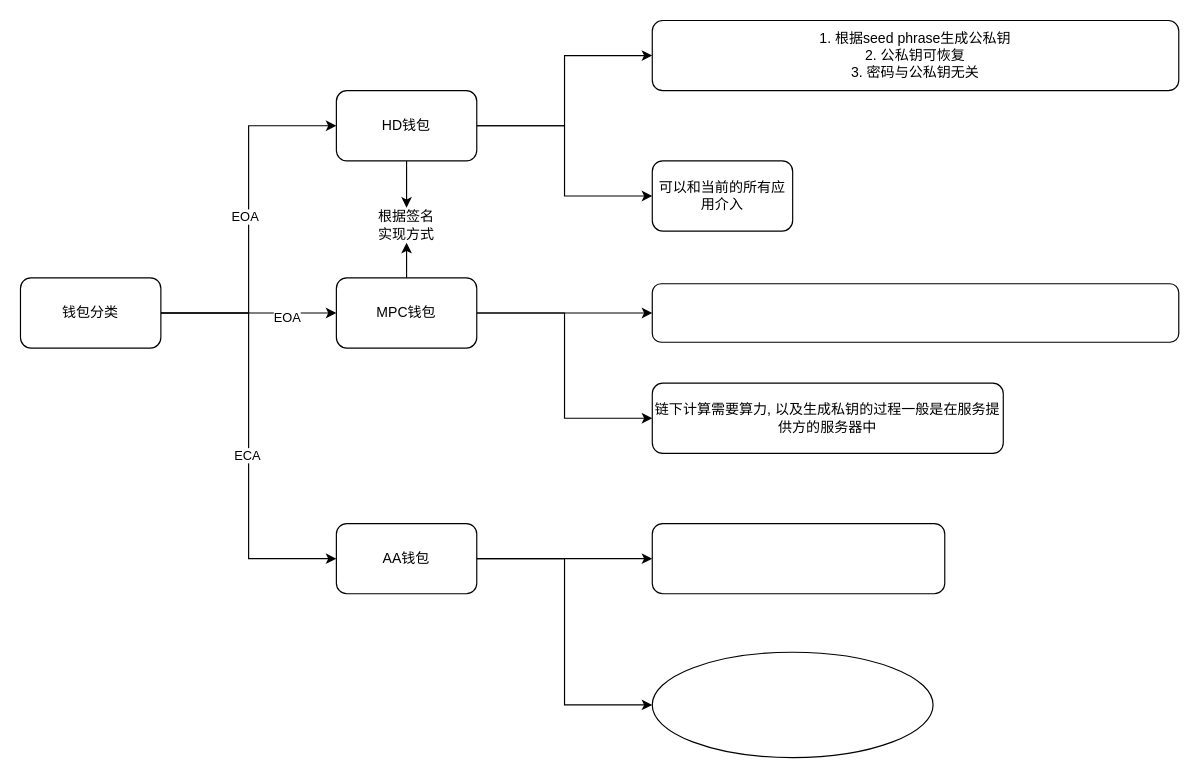
The diagram is 1199 pixels wide and 778 high, and some of its shapes have lost their labels. Each missing label, with the box of its shape:
多签钱包指的是功能上的多签: 需要多个人签名: (651, 651, 933, 758)
将生成的私钥分成多个碎片, 在使用的时候通过一个计算网络合成(阈值): (651, 283, 1179, 342)
本质上是一个合约账户: (651, 522, 945, 594)
